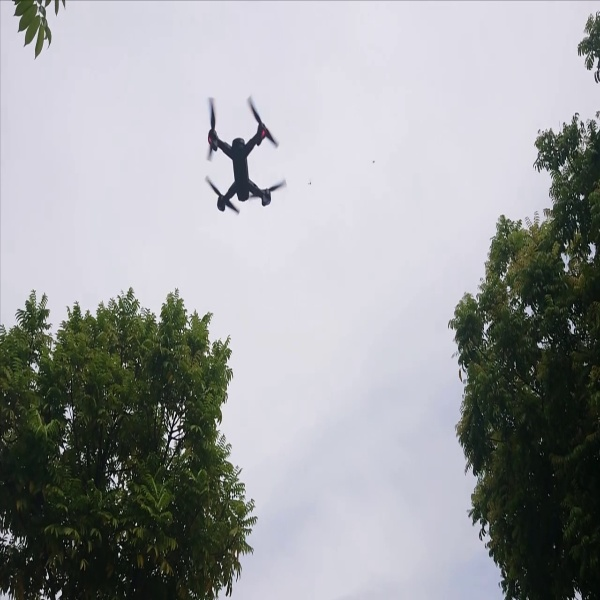drone: (186, 82, 298, 217)
